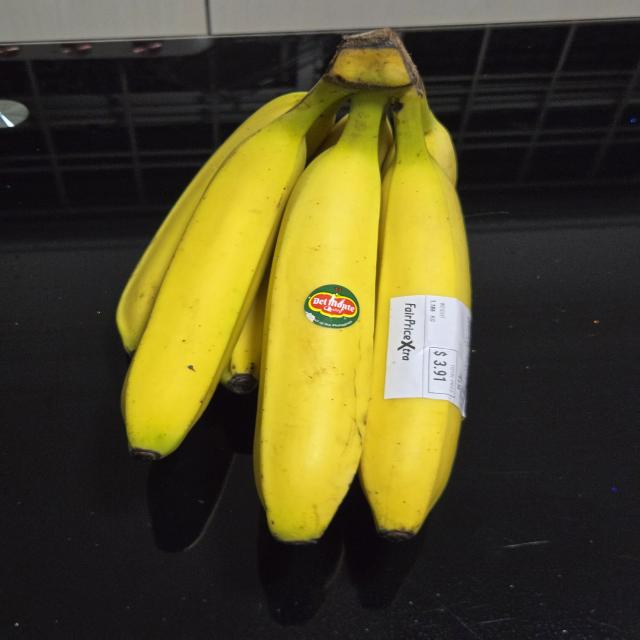banana: (105, 26, 496, 557)
